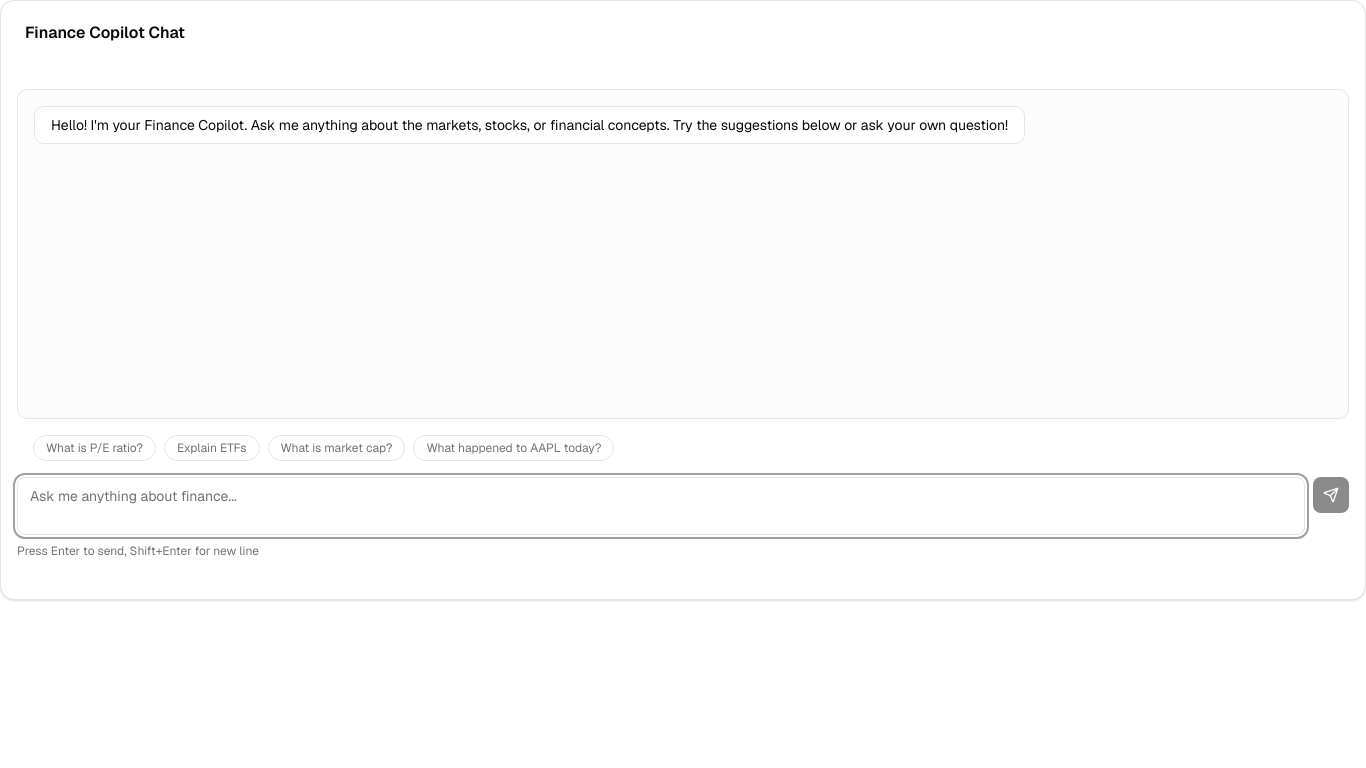
Test: Chat Component - API Integration › handles empty API response gracefully
Type "Test question" into the text box with placeholder "Ask me anything about finance..." at [661, 506], box [17,477,1305,535]
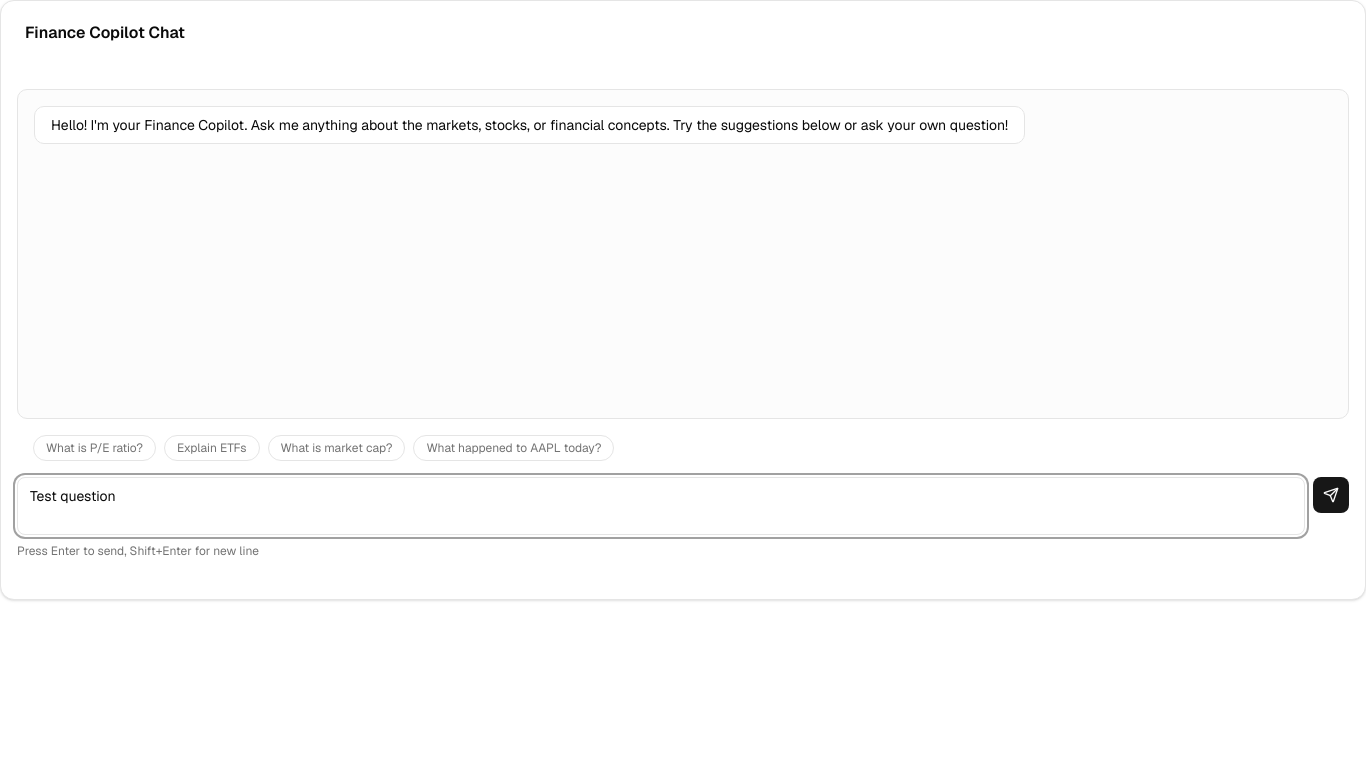
Click the 5th button at [1331, 495], box [1313,477,1349,513]
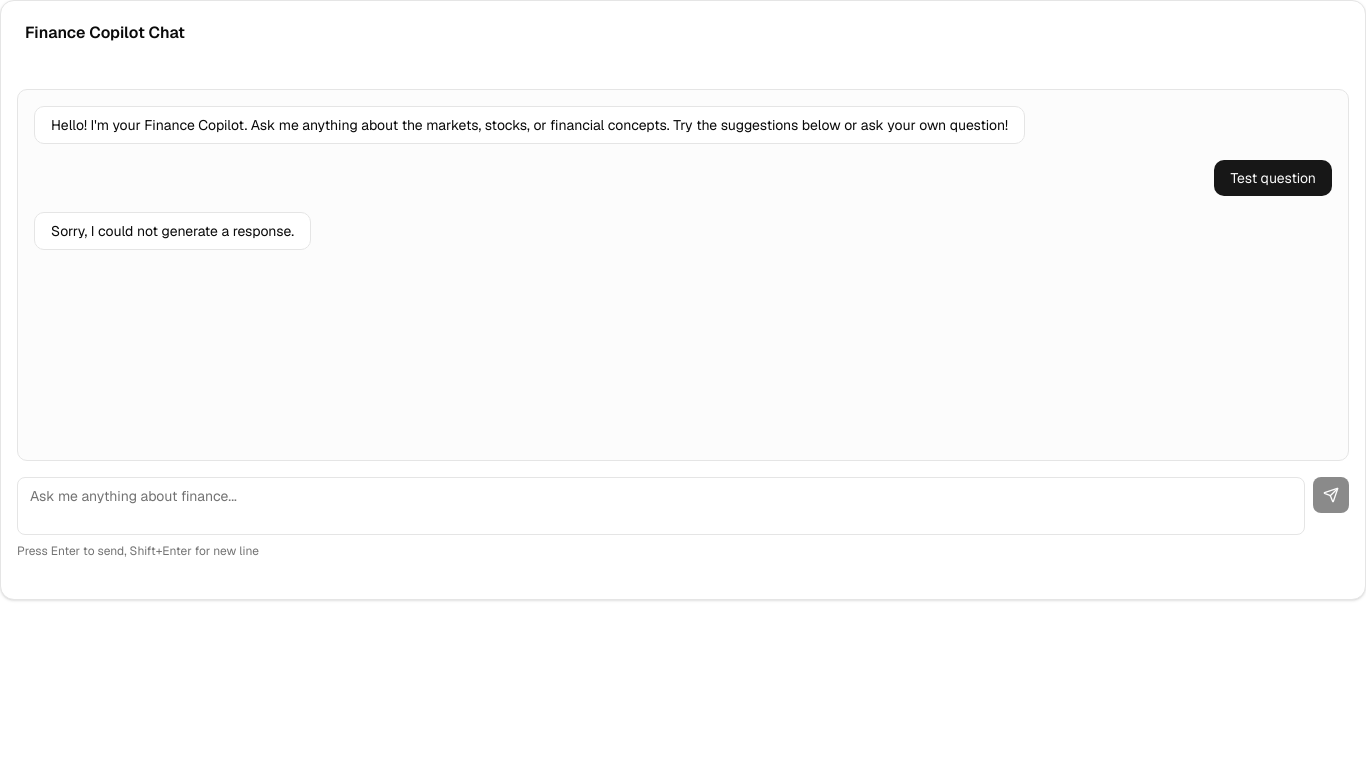
Result: the text "Sorry, I could not generate a response." is shown at [51,221,294,241]
